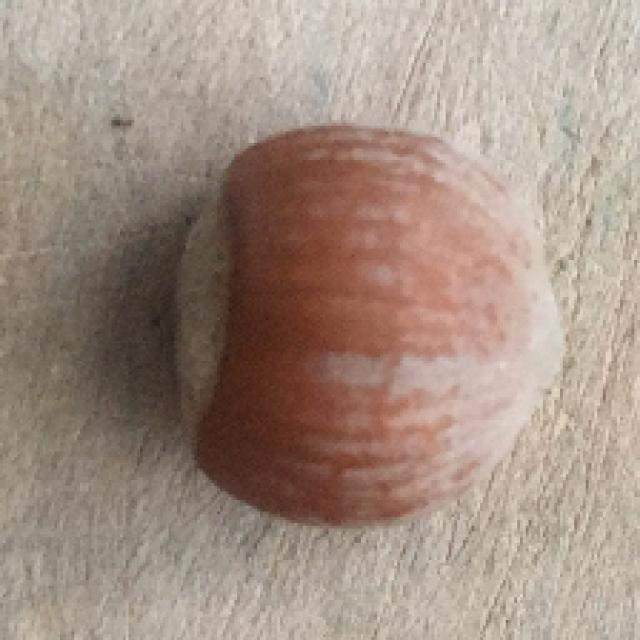qualityHazelnut: (182, 120, 572, 525)
